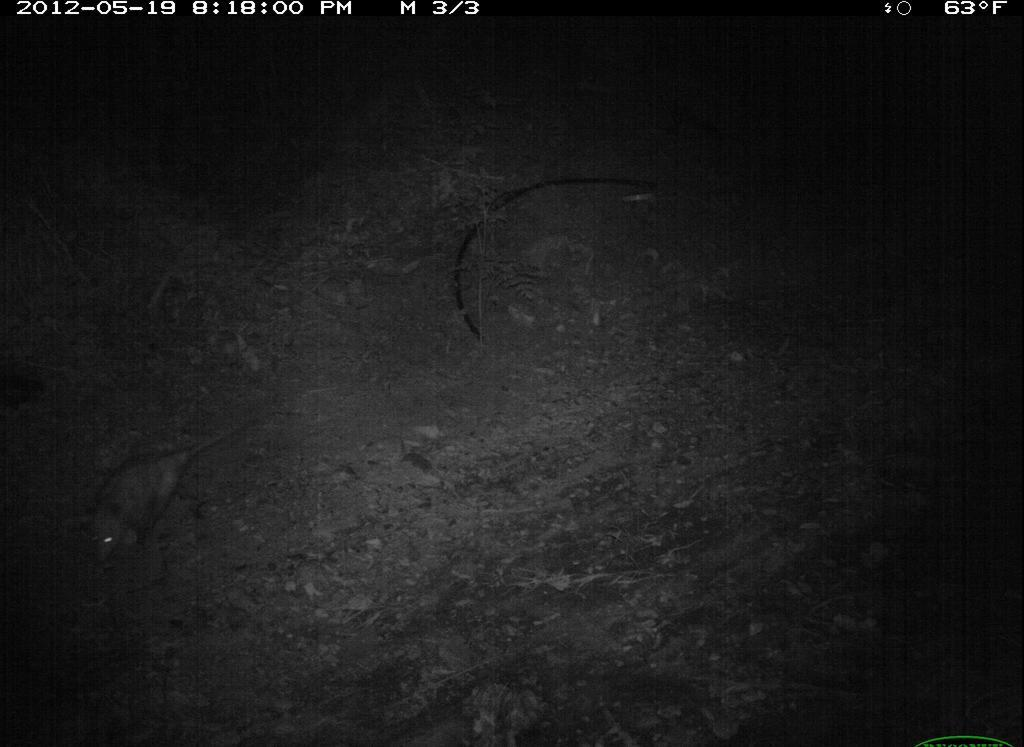opossum: (82, 417, 251, 574)
